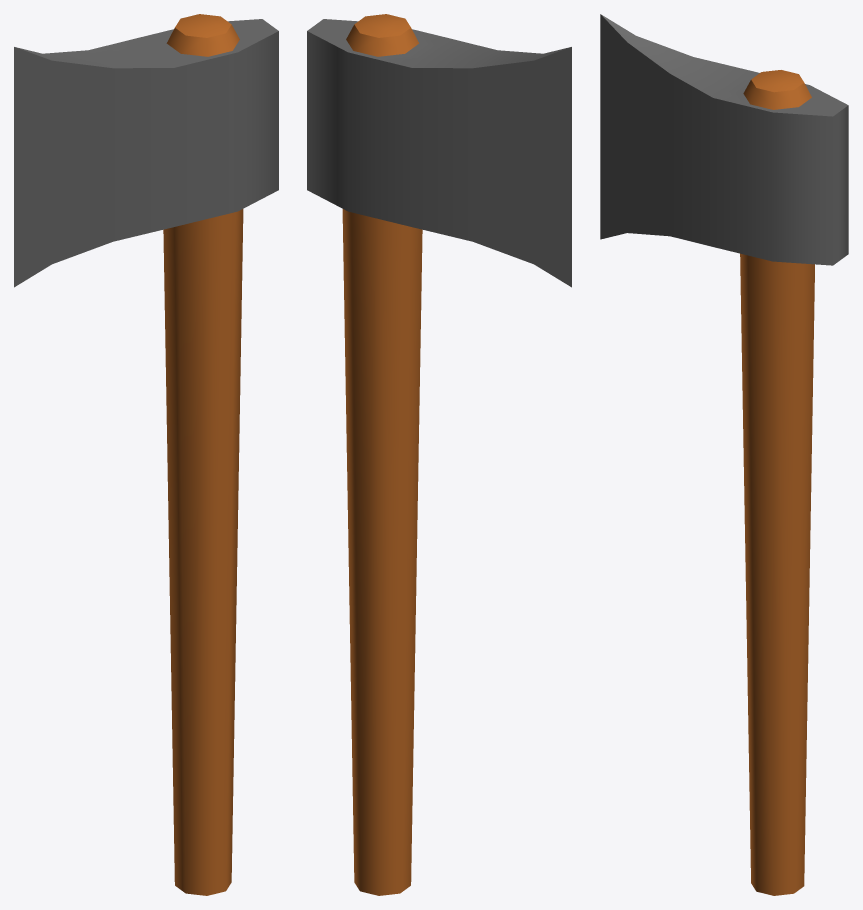
Rendered from Axe.fbx.
3 views of the same model, side by side, from view 1: azimuth 30°, elevation 25°; view 2: azimuth 150°, elevation 25°; view 3: azimuth 330°, elevation 25° (orthographic). The views are drawn at different scales.
Parts seen in each view (by area): view 1: Axe; view 2: Axe; view 3: Axe.
Boxes of the visible parts, x1=… form: Axe: x1=14, y1=14, x2=278, y2=895; Axe: x1=307, y1=14, x2=571, y2=895; Axe: x1=600, y1=14, x2=848, y2=895.
Bounding box in the file's own units: 44.94 × 148 × 12.07.
